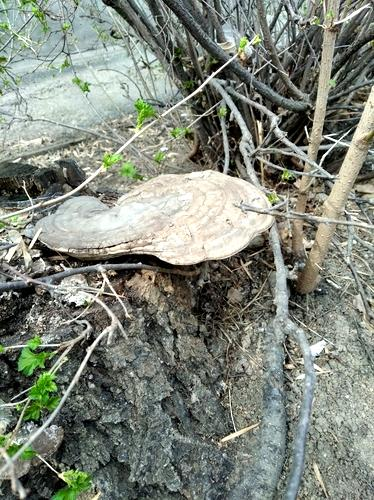Ganoderma - Fruit Body: (30, 167, 278, 272)
